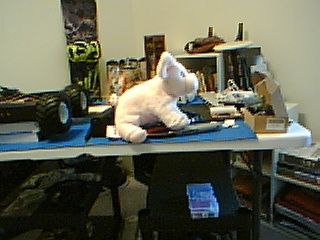piggy: (108, 50, 201, 145)
